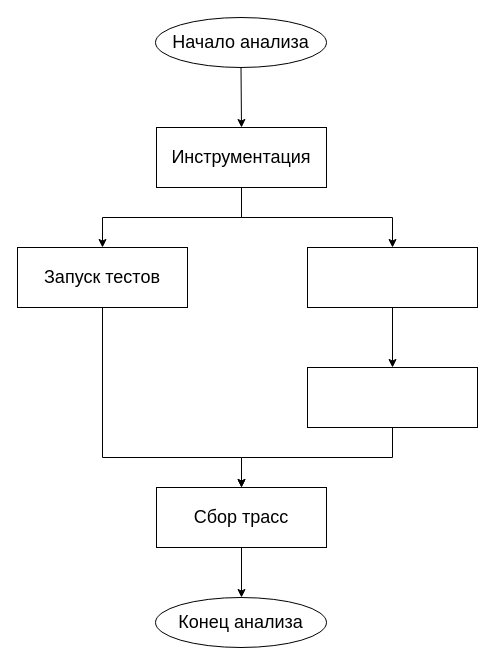
Some shapes in this 495 by 665 pixel diagram are drawn without their labels. The centre of each missing label's shape, as x and y in pixels:
Поиск точек входа: point (392, 277)
Фаззинг: point (392, 397)
